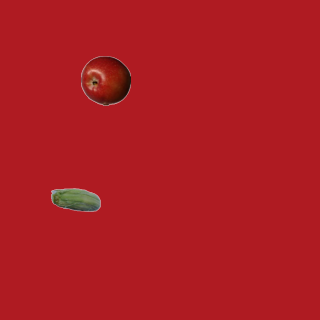Apple Braeburn: (80, 55, 130, 105)
Corn Husk: (50, 176, 100, 226)
